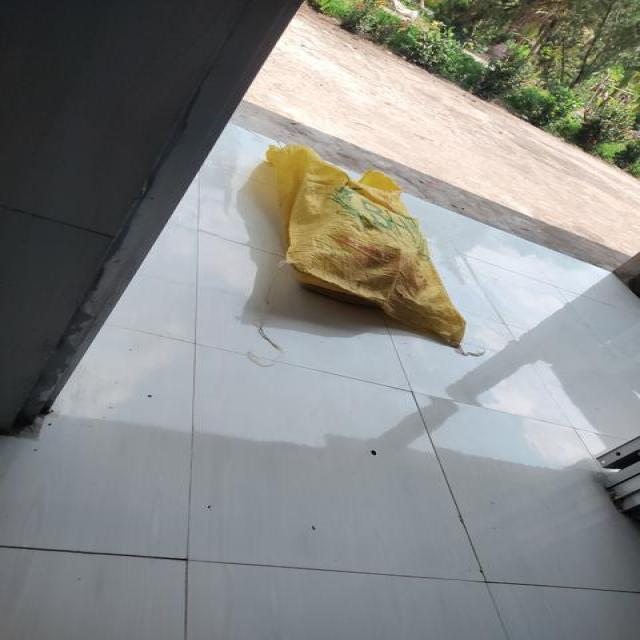gunny_bag: (267, 144, 465, 348)
